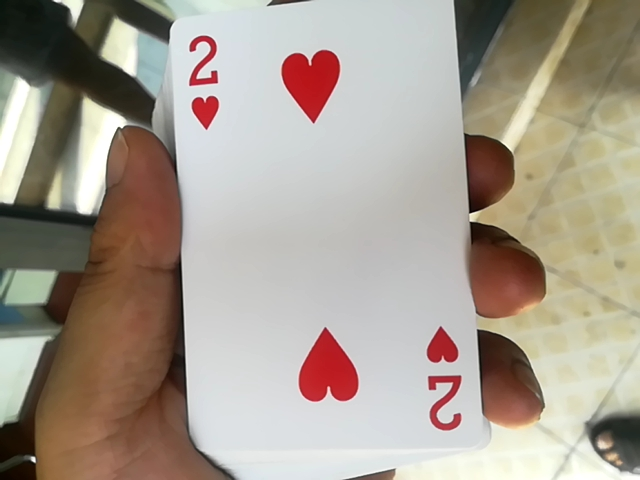hx 2: (153, 6, 490, 463)
